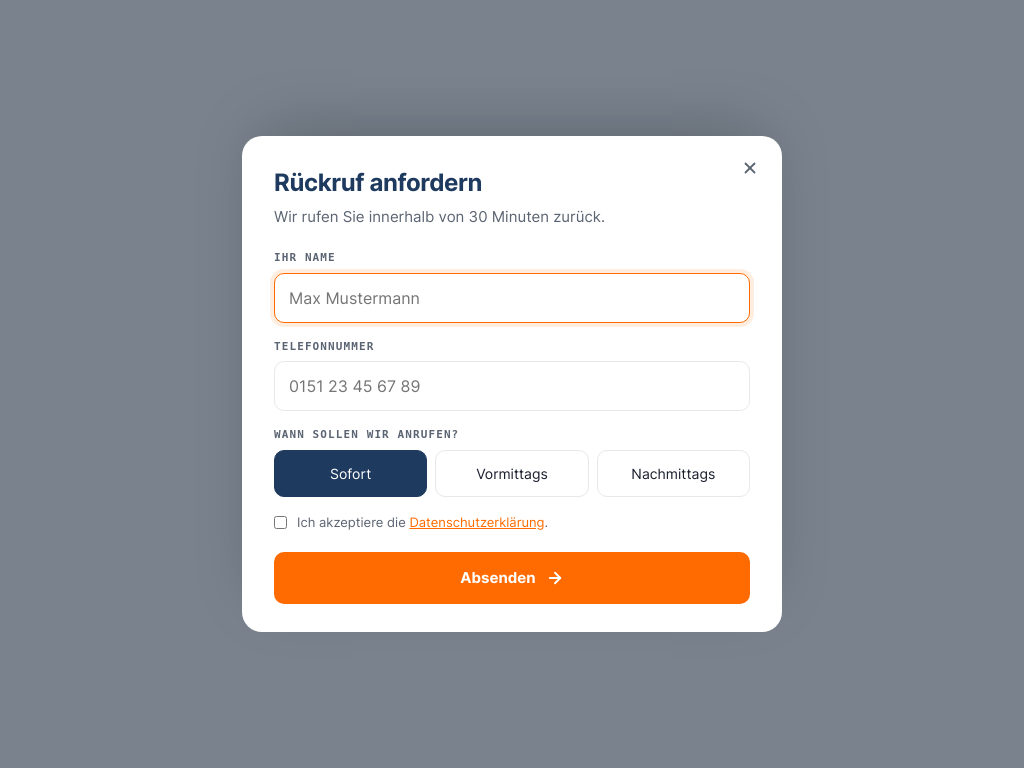
Scenario: ContactFlowSheet — callback form › submits to flash-contact with backend-valid time_preference values
Type "Erika Muster" into the field with placeholder "Max Mustermann".
click(512, 298); type("Erika Muster")  # box 274,273 -> 750,323
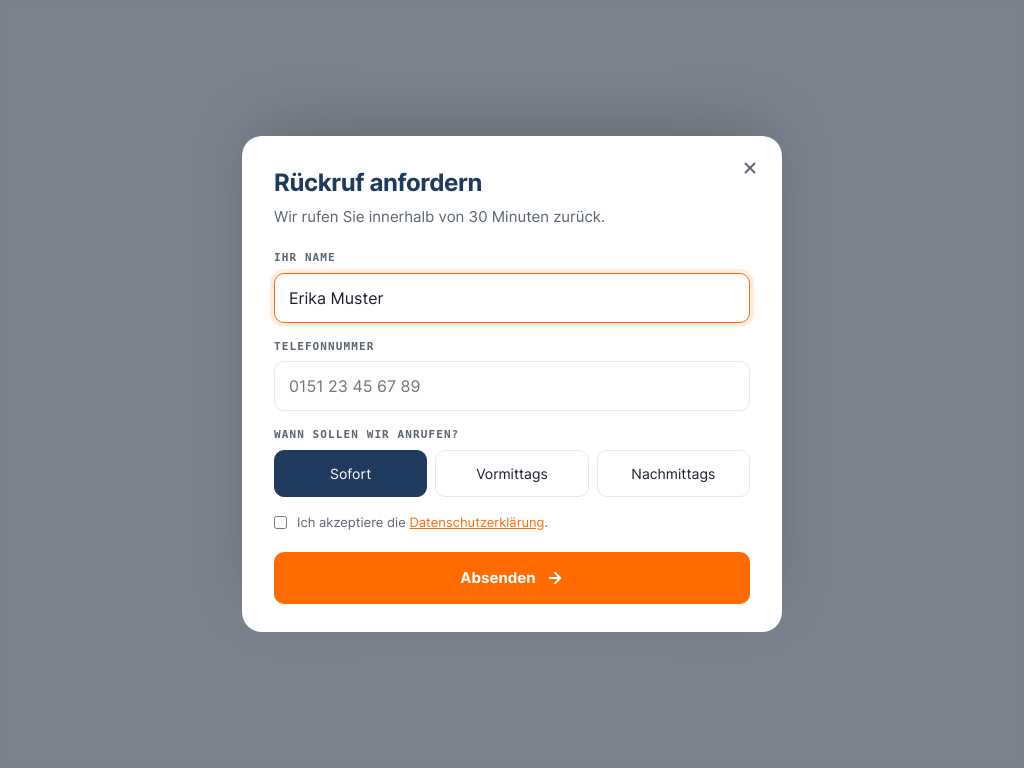
Type "0151 999" into the field with placeholder "0151 23 45 67 89".
click(512, 386); type("0151 999")  # box 274,361 -> 750,411
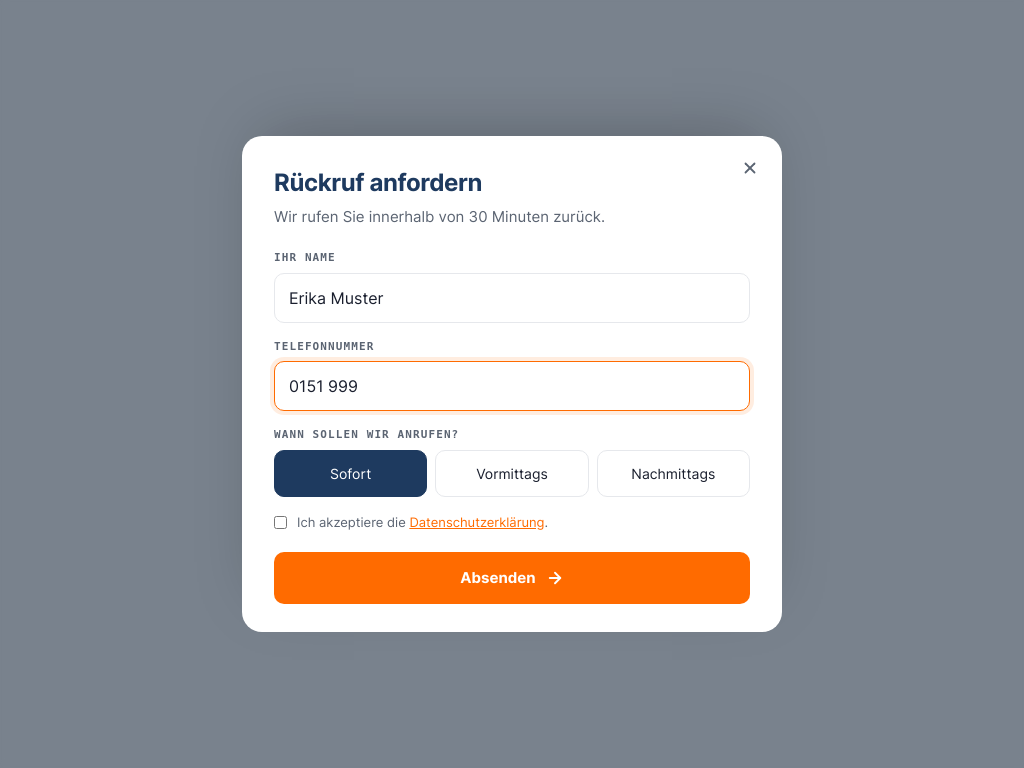
Click the button "Vormittags".
click(512, 473)  # box 435,450 -> 589,497
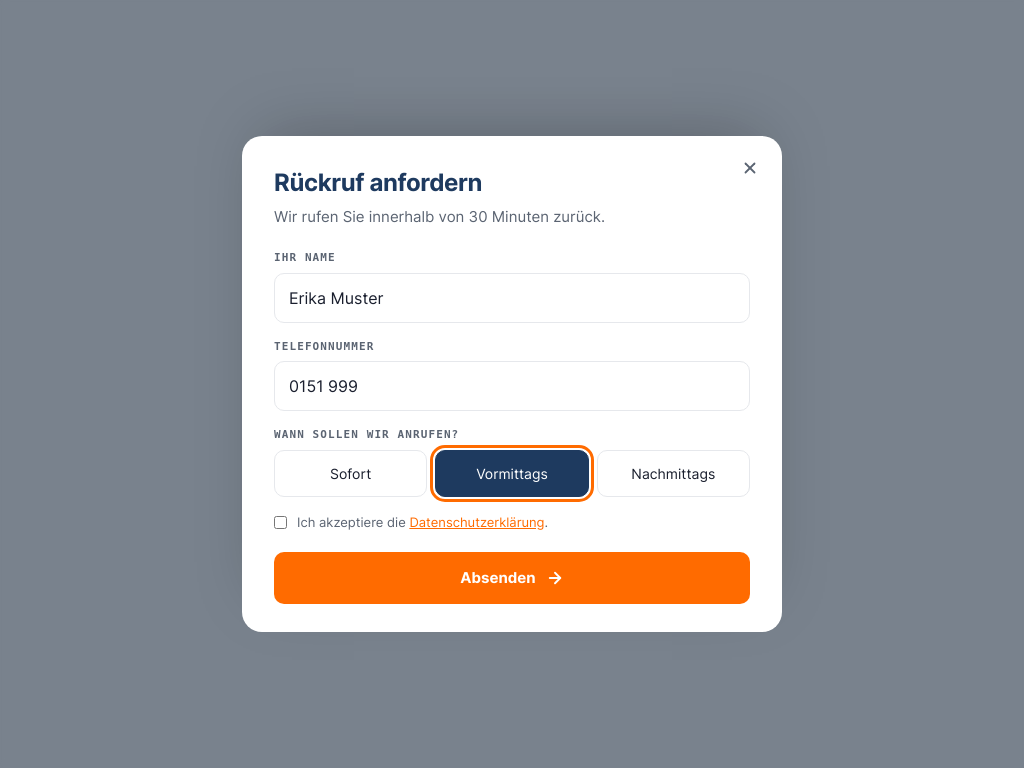
Click the checkbox.
click(280, 522)  # box 274,516 -> 287,529
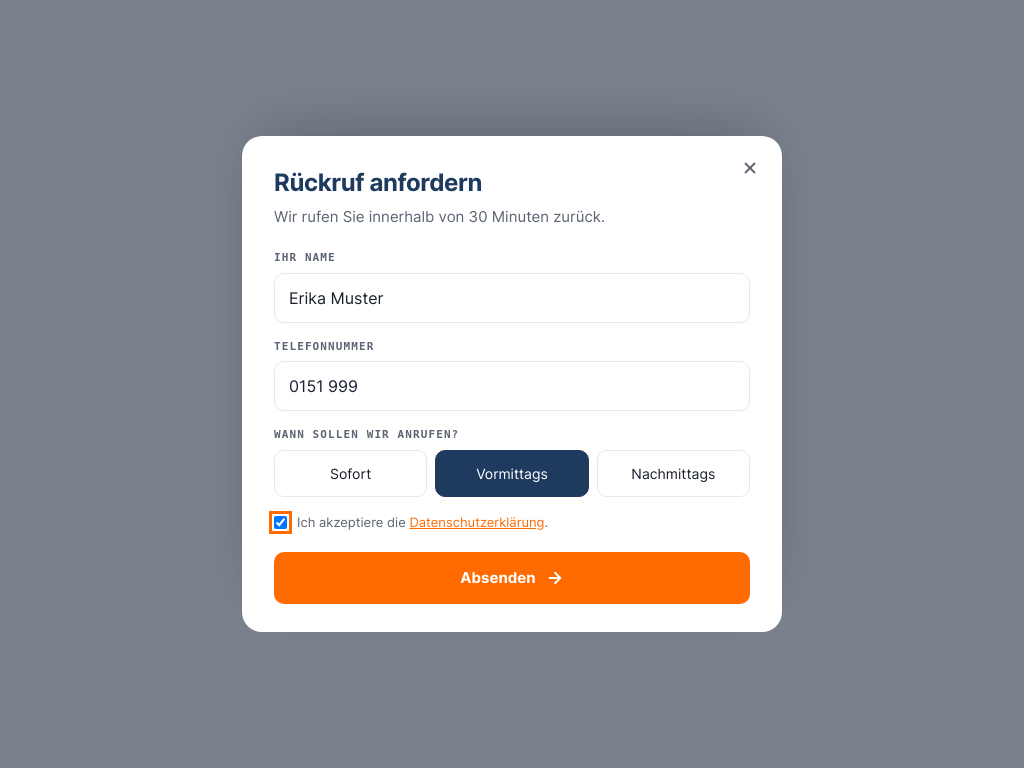
Click the button "Absenden".
click(512, 578)  # box 274,552 -> 750,604
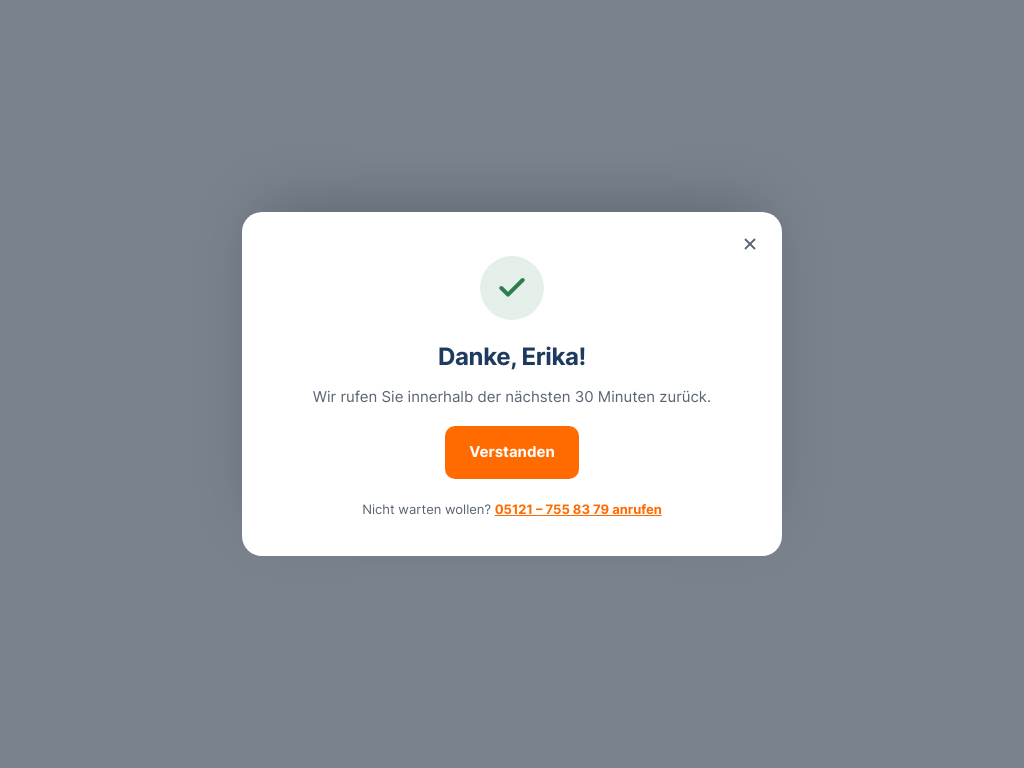
Now the heading "Danke, Erika!" is shown, box 438,342 -> 586,372
